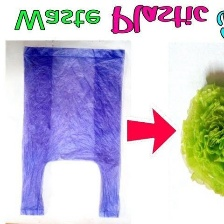plastic_bag: (15, 43, 128, 220)
